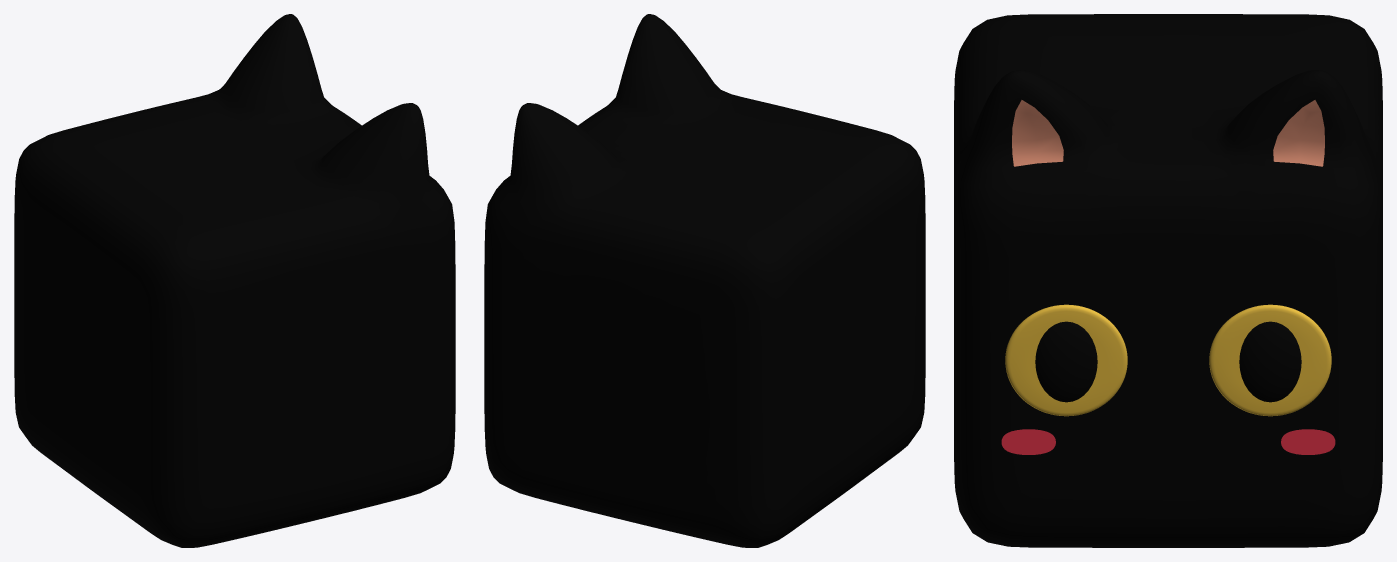
The model's file is Cat_Sleep.fbx.
3 views of the same model, side by side, from view 1: azimuth 30°, elevation 25°; view 2: azimuth 150°, elevation 25°; view 3: azimuth 270°, elevation 25° (orthographic). The views are drawn at different scales.
Visible parts, largest first — view 1: Cat_Body; view 2: Cat_Body; view 3: Cat_Body, Eye, Circle.
Boxes of the visible parts, x1=… form: Cat_Body: x1=14, y1=14, x2=455, y2=547; Cat_Body: x1=484, y1=14, x2=925, y2=547; Cat_Body: x1=954, y1=14, x2=1382, y2=547; Eye: x1=1005, y1=304, x2=1331, y2=416; Circle: x1=1001, y1=429, x2=1335, y2=454.
Size of the model in its own units: 366 by 433 by 355.
